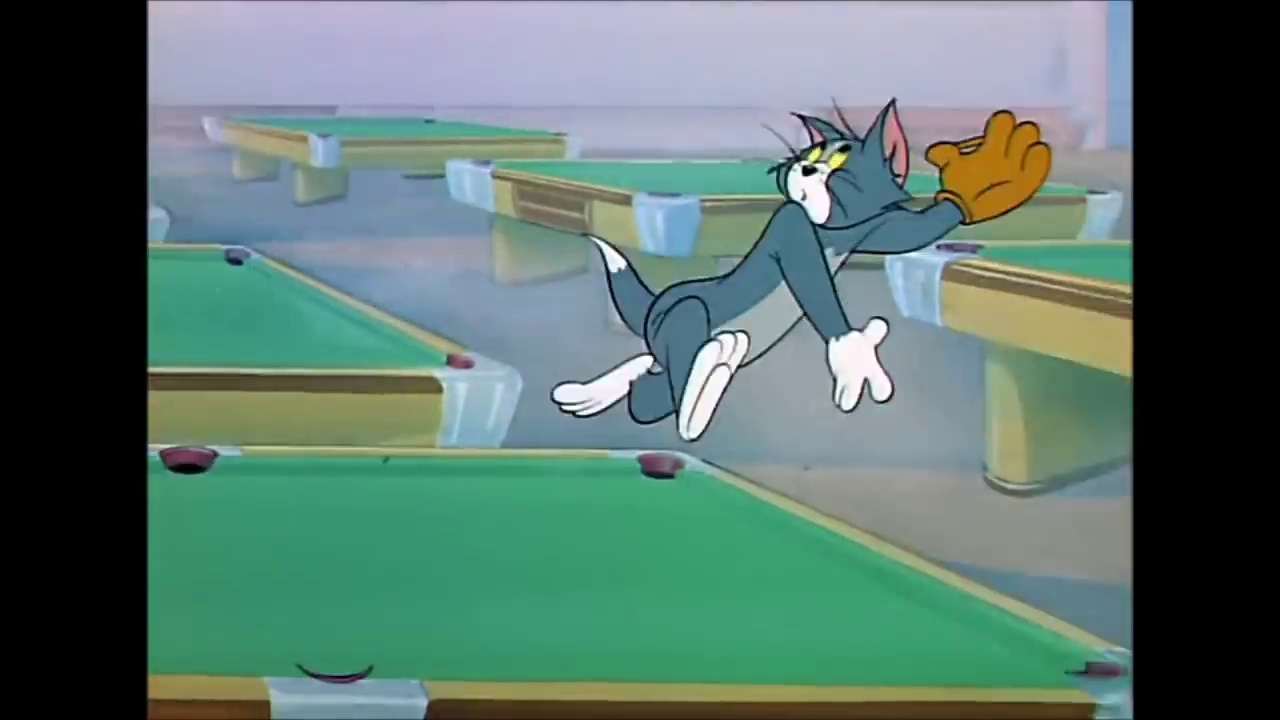surprised: (796, 135, 858, 227)
